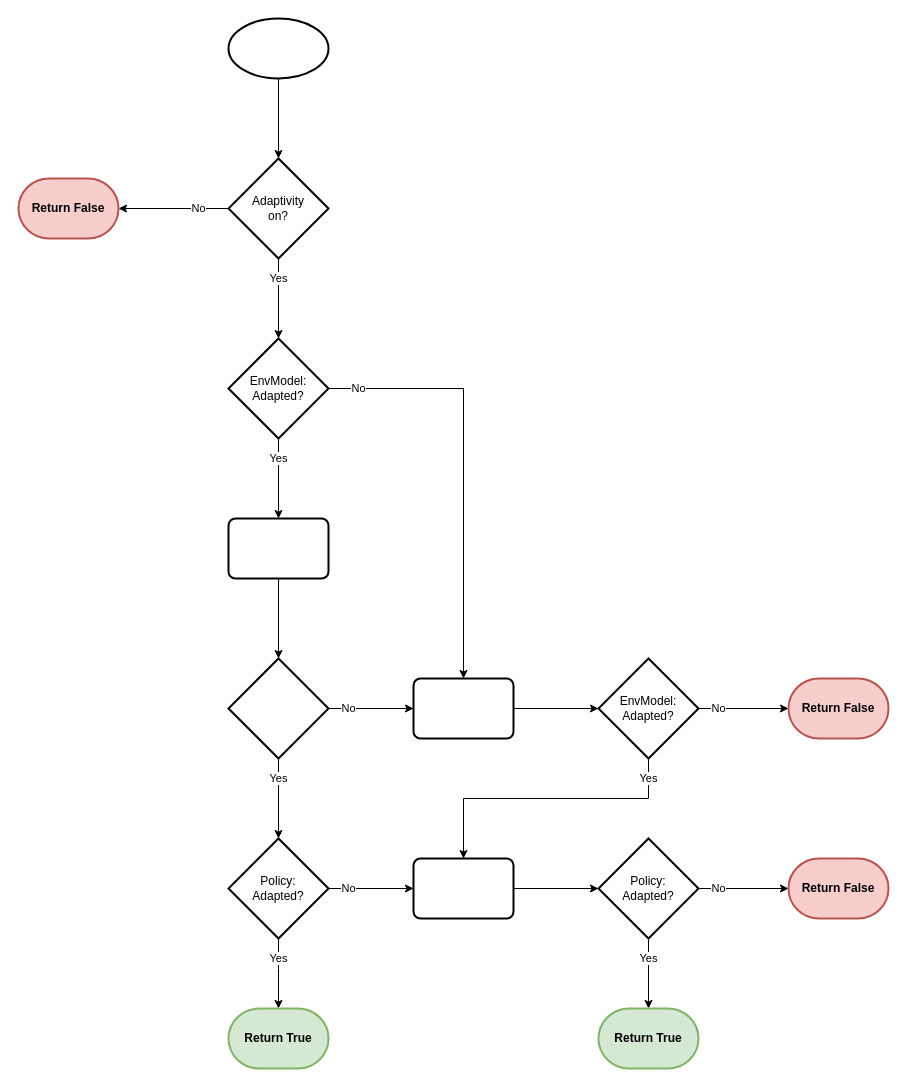
This 906x1086 diagram has some shape labels left out. Each missing label, with the centre of its shape:
"Comparation: Environment/ EnvModel" goes at (x=278, y=548).
"EnvModel: Quality ok?" goes at (x=278, y=708).
"EnvModel: Try adaption" goes at (x=463, y=708).
"Policy: Try adaption" goes at (x=463, y=888).
"Start" goes at (x=278, y=48).
